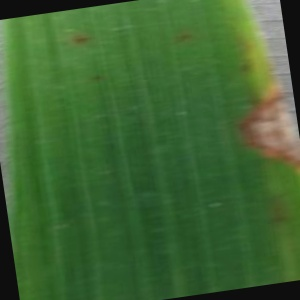Brown_Spot: (223, 79, 299, 188)
